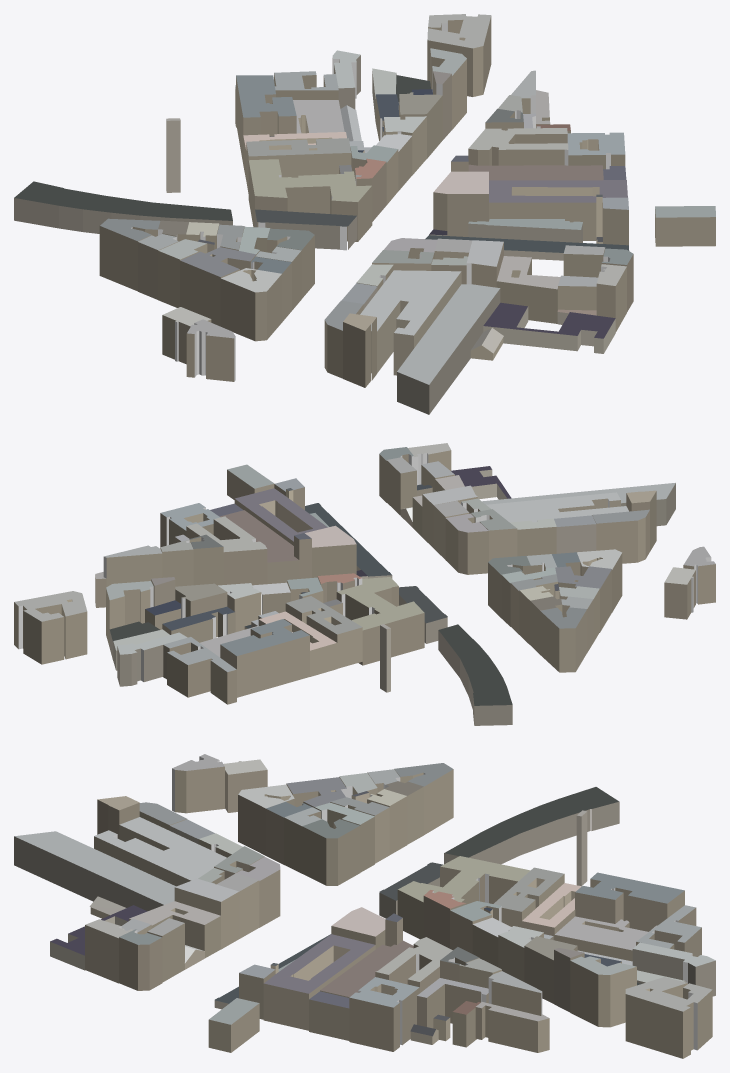
3 renders of one model, top to bottom at view 1: azimuth 30°, elevation 25°; view 2: azimuth 150°, elevation 25°; view 3: azimuth 270°, elevation 25°, orthographic. The views are drawn at different scales.
Visible parts, largest first — view 1: tuile; view 2: tuile; view 3: tuile.
Boxes of the visible parts, x1=… form: tuile: x1=14, y1=14, x2=715, y2=414; tuile: x1=14, y1=443, x2=715, y2=725; tuile: x1=14, y1=754, x2=715, y2=1058.
Size of the model in its own units: 265 by 35.38 by 301.
